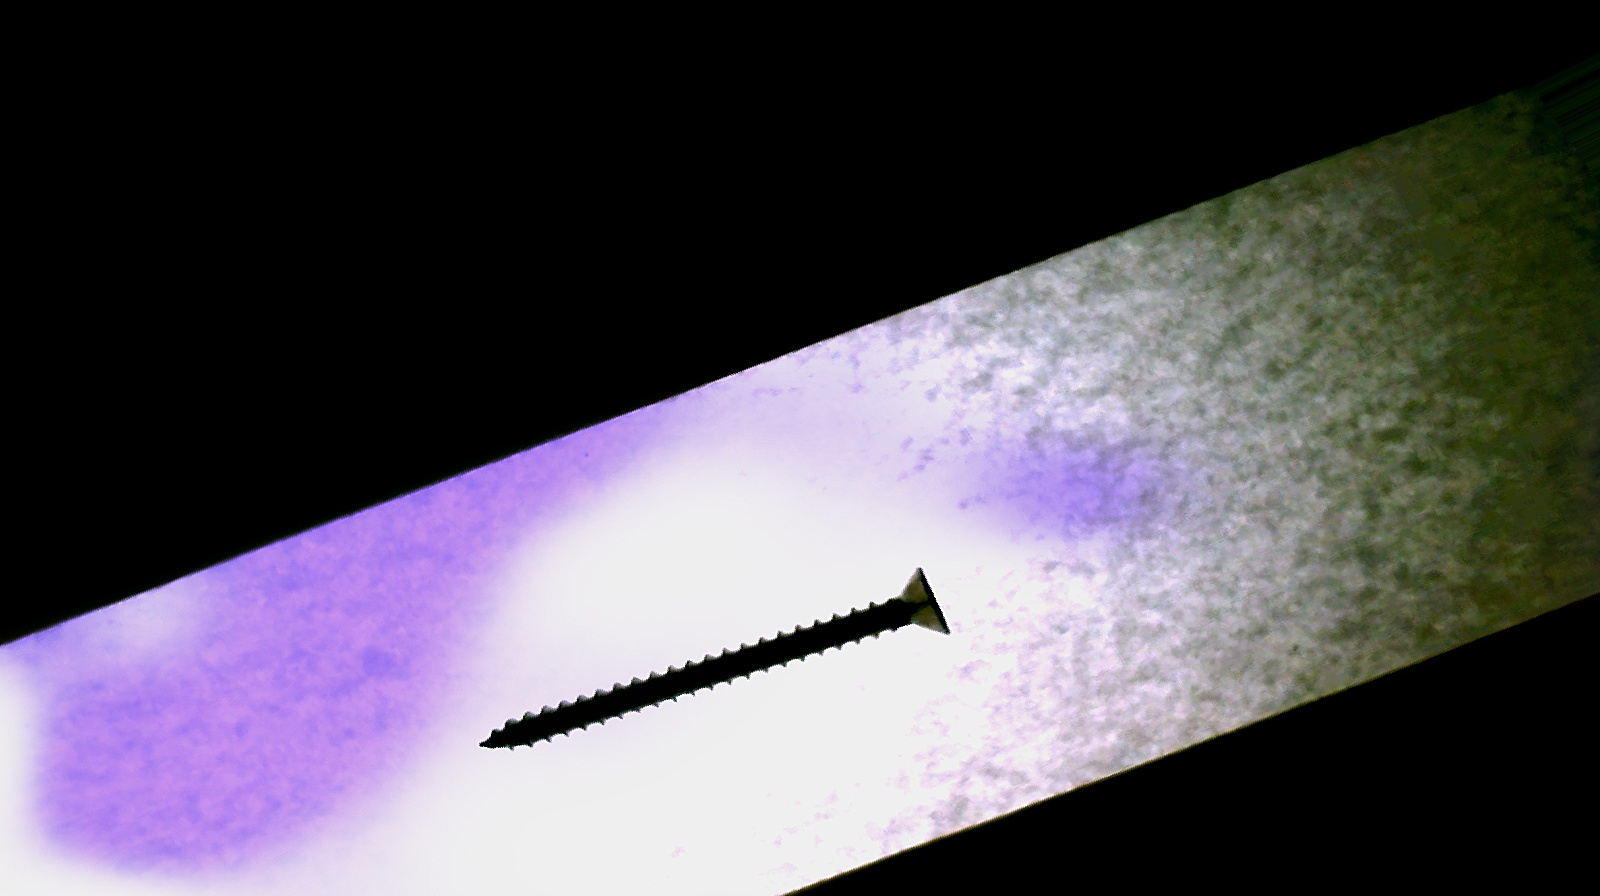S002: (460, 517, 977, 836)
